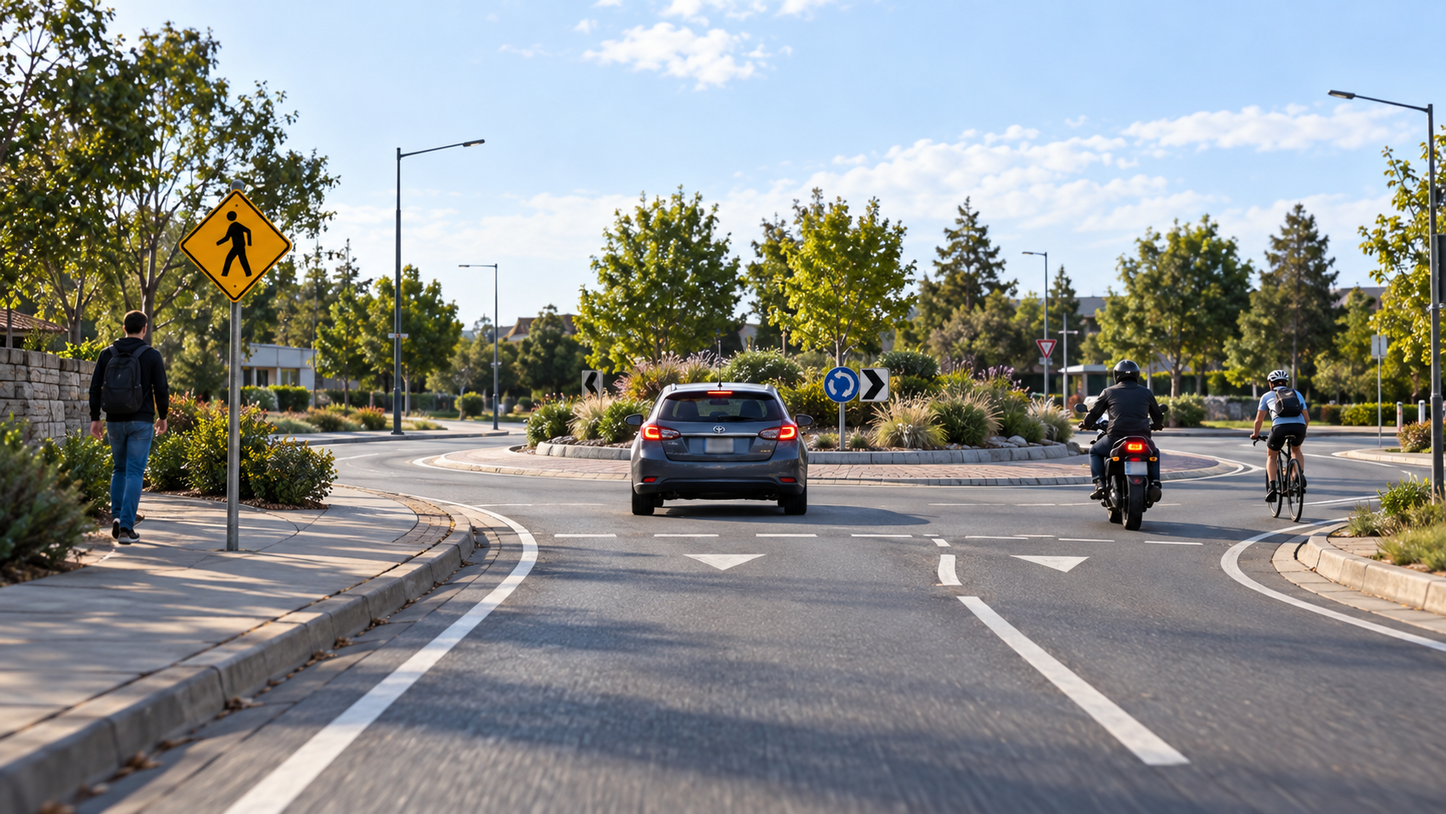bicycle: (1243, 411, 1319, 529)
car: (626, 379, 814, 522)
crossing_warning_sign: (179, 187, 297, 305)
motorcycle: (1070, 447, 1165, 535)
person: (87, 307, 176, 548), (1069, 360, 1181, 500), (1246, 369, 1318, 496)
